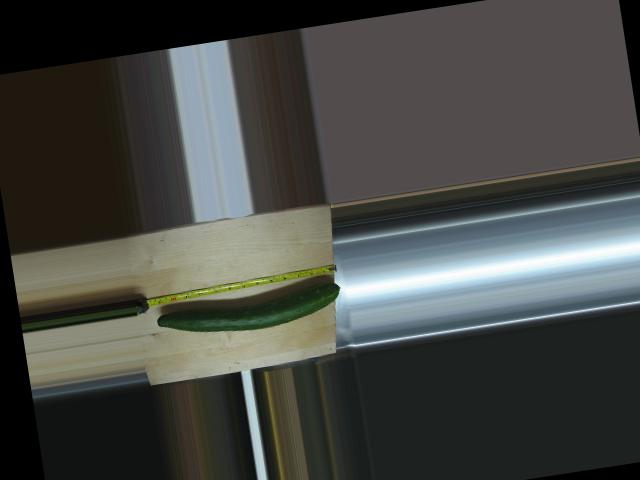cucumber: (154, 279, 343, 343)
